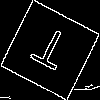T: (25, 24, 73, 80)
